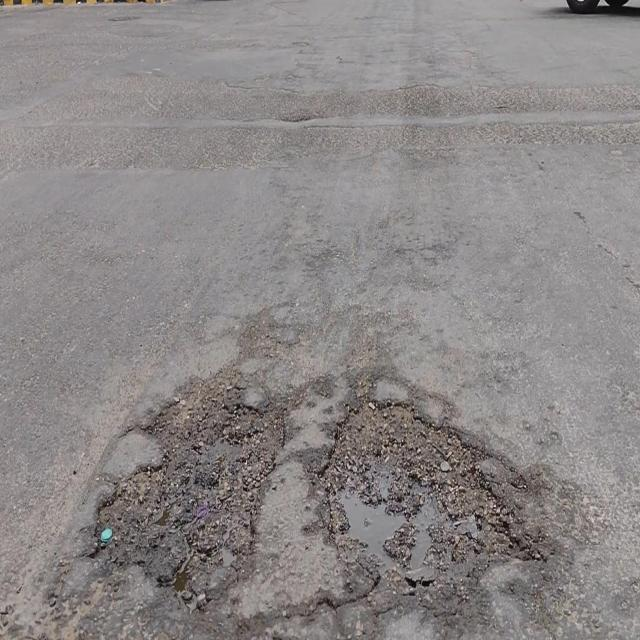Potholes: (84, 375, 291, 615), (319, 406, 520, 605)
